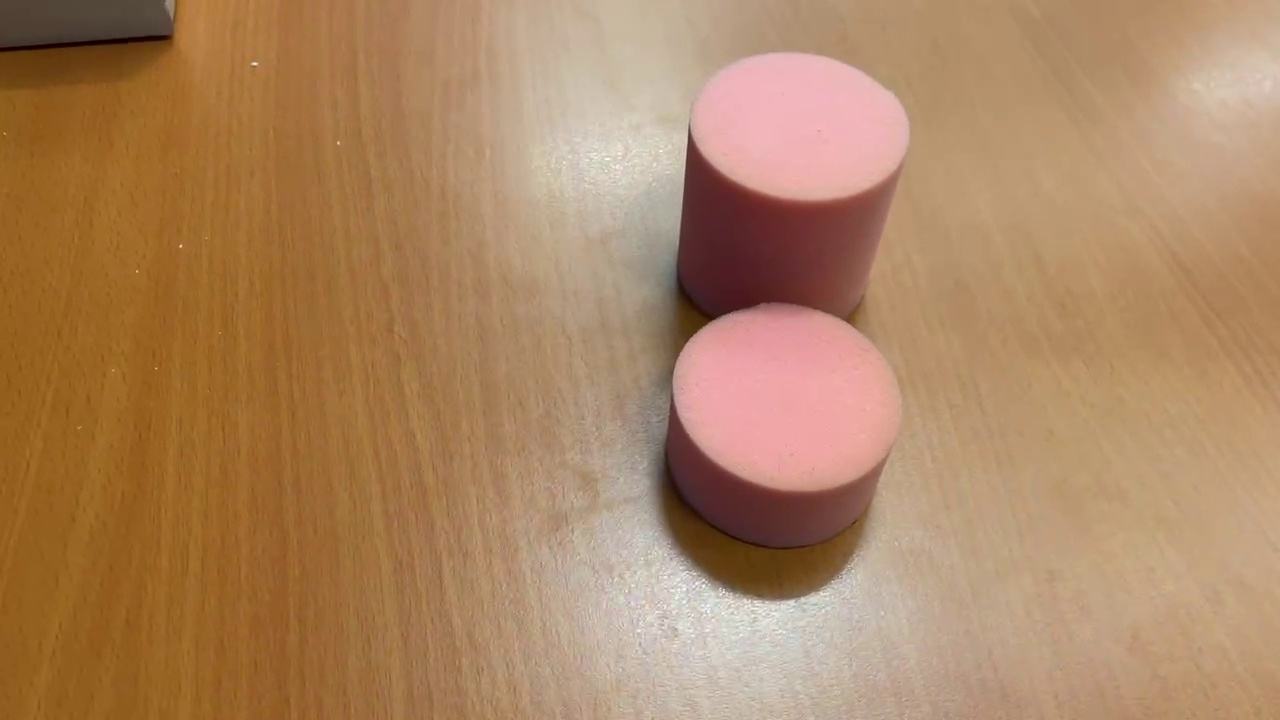Clyinder_short: (656, 297, 915, 553)
Cylinder: (673, 45, 918, 341)
